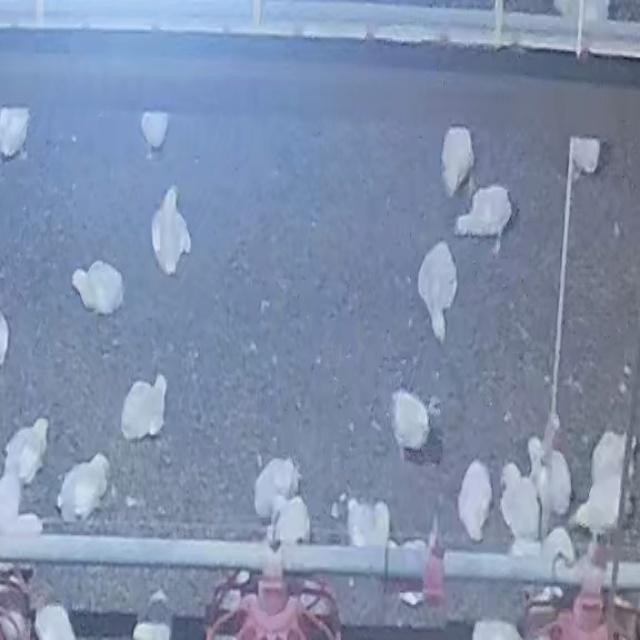chicken: (572, 432, 629, 532), (149, 179, 194, 278), (416, 242, 457, 346), (526, 434, 573, 524), (56, 452, 110, 524), (454, 183, 514, 243), (119, 371, 167, 442), (500, 461, 540, 544), (0, 462, 43, 538), (252, 456, 300, 520), (4, 417, 50, 482), (71, 261, 124, 316), (458, 459, 493, 542), (391, 388, 431, 454), (440, 125, 474, 195), (346, 498, 390, 548), (136, 85, 169, 151), (273, 496, 311, 544), (34, 603, 81, 640), (540, 528, 576, 574), (0, 105, 31, 158), (568, 135, 602, 182), (552, 0, 604, 24)
